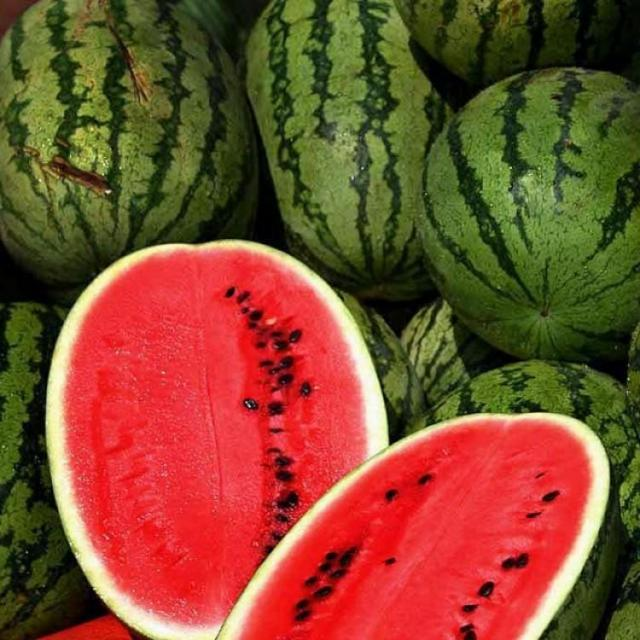watermelon: (44, 229, 396, 634), (214, 406, 626, 640), (0, 0, 275, 282), (420, 62, 640, 359), (247, 0, 464, 282), (0, 274, 131, 640), (428, 353, 639, 475), (389, 0, 640, 88)
